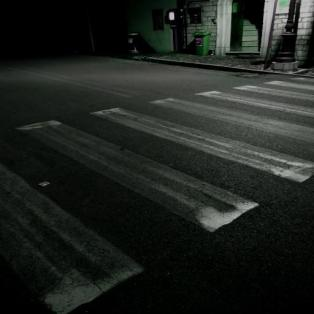Paso de Cebra: (8, 104, 314, 236)
